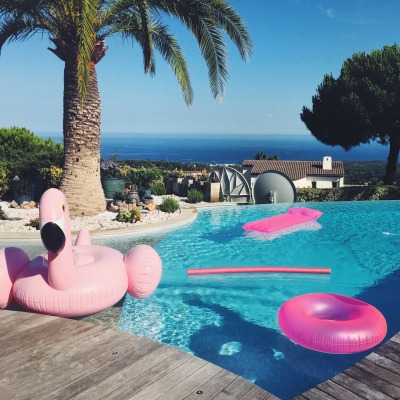Flamingo: (1, 186, 163, 321)
